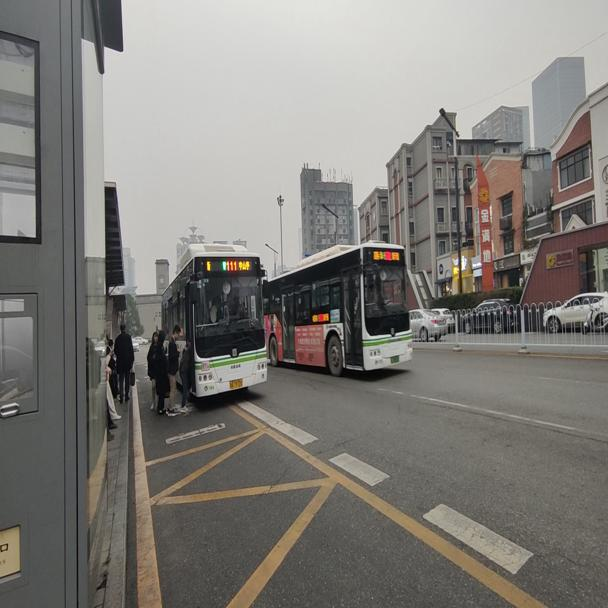bus: (268, 243, 413, 378), (159, 238, 268, 401)
screen: (224, 257, 237, 271)
